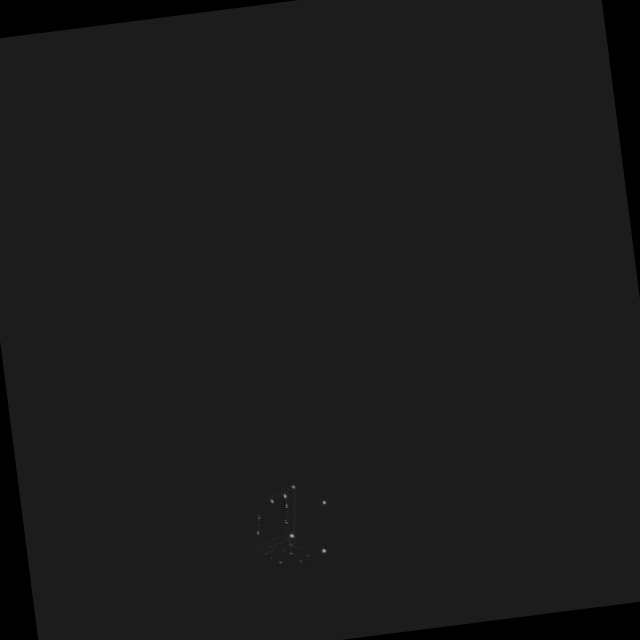medium_debris: (237, 471, 351, 600)
